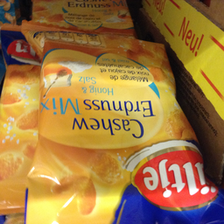nuts: (22, 18, 224, 223)
